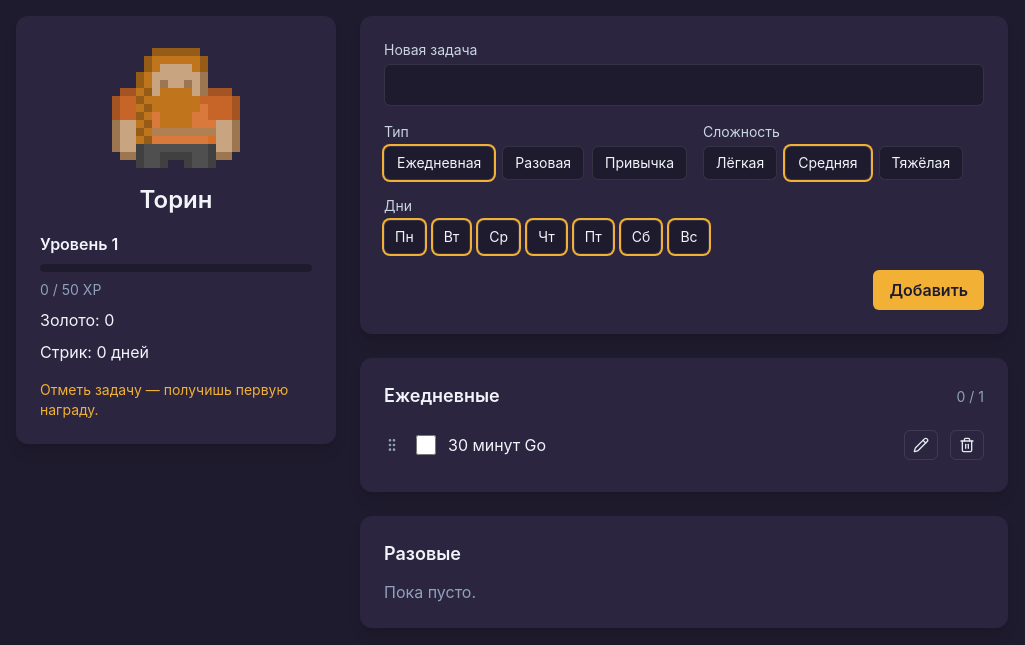
HomeView › announces an achievement with its rare item and celebrates it
This screenshot has width=1025, height=645.
Click the checkbox named "Выполнено: 30 минут Go".
click(426, 445)  # box [416,435,436,455]
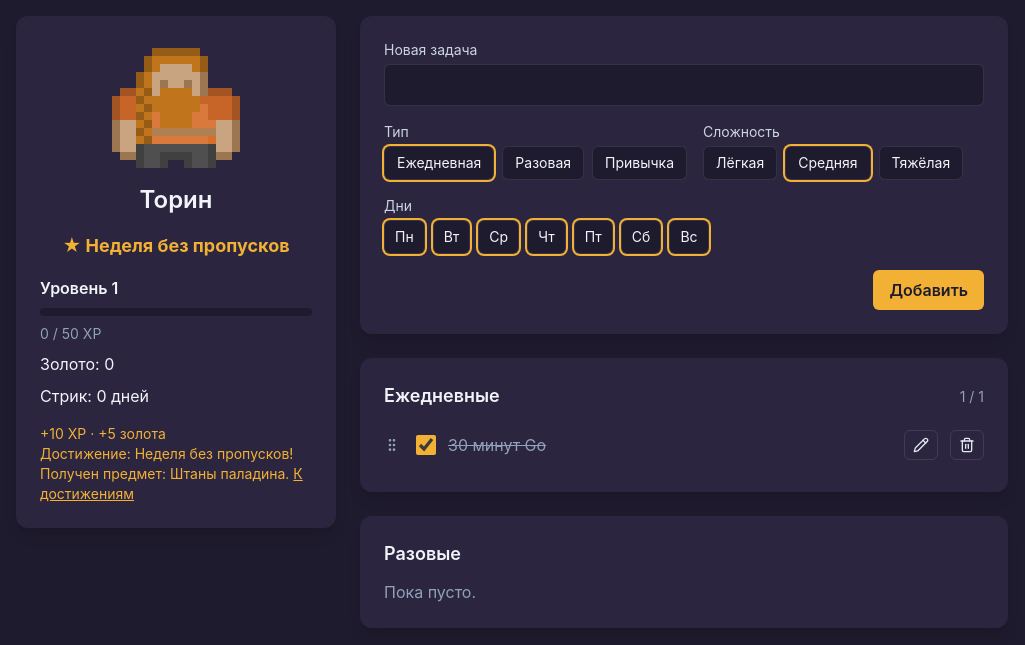
Now the message with test id "reward-notice" shows "Достижение: Неделя без пропусков! Получен предмет: Штаны паладина.", box [40,445,293,482]
Now the link to "/achievements" reads "К достижениям", box [40,465,303,502]
Now the text with test id "achievement-banner" shows "Неделя без пропусков", box [62,235,290,256]
